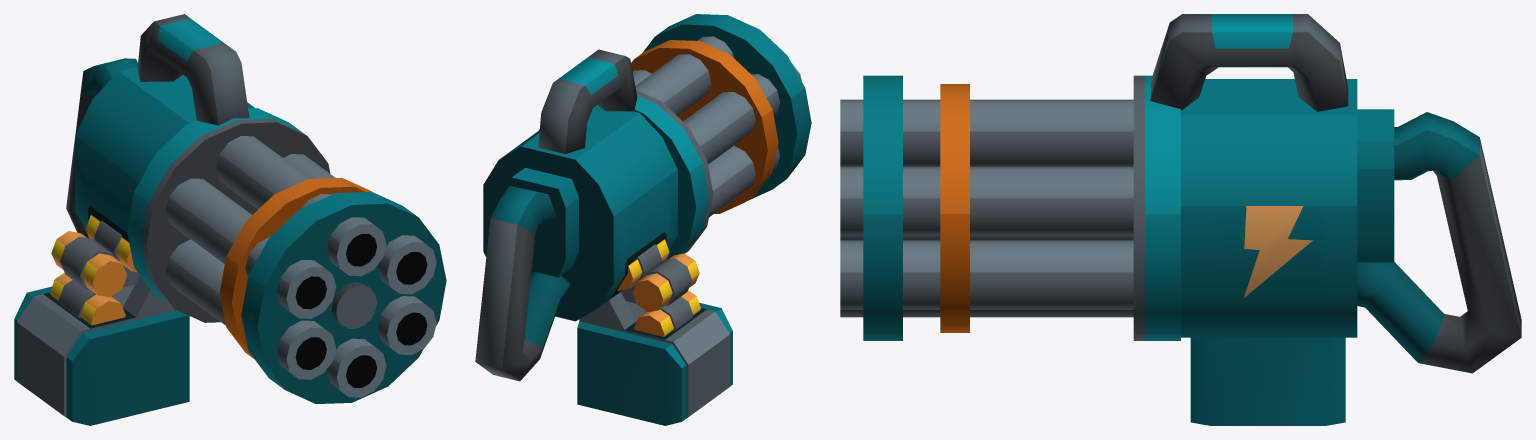
File: Weapon_Minigun01.fbx
3 renders of one model, left to right at view 1: azimuth 30°, elevation 25°; view 2: azimuth 150°, elevation 25°; view 3: azimuth 270°, elevation 25°, orthographic. The views are drawn at different scales.
Parts seen in each view (by area): view 1: Weapon_Minigun01; view 2: Weapon_Minigun01; view 3: Weapon_Minigun01.
Part boxes in pixels (bbox=[...]): Weapon_Minigun01: bbox=[14, 14, 446, 425]; Weapon_Minigun01: bbox=[475, 14, 811, 425]; Weapon_Minigun01: bbox=[840, 14, 1521, 425].
Bounding box in the file's own units: 4.81 × 6.55 × 9.73.
